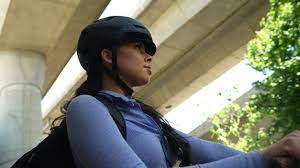helmets: (77, 15, 157, 73)
